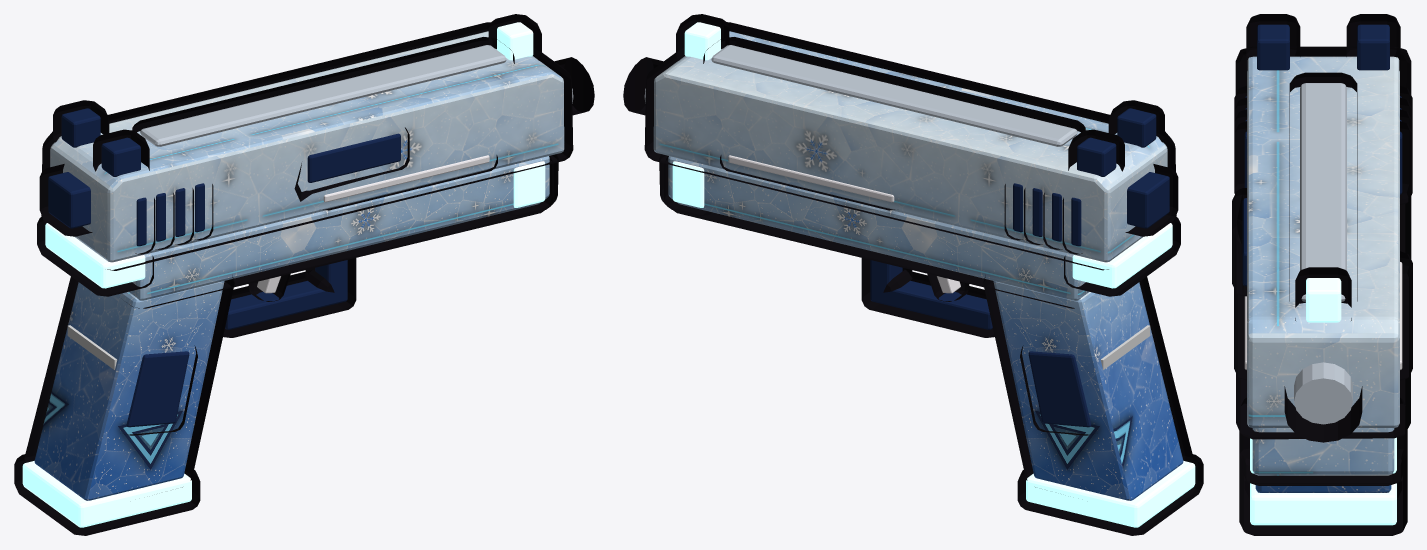
File: Deagle_Cryo.fbx
3 renders of one model, left to right at view 1: azimuth 30°, elevation 25°; view 2: azimuth 150°, elevation 25°; view 3: azimuth 270°, elevation 25°, orthographic. The views are drawn at different scales.
Visible parts, largest first — view 1: ChargingHandle_Cryo, Body_Cryo, ChargingHandle_Contour, Body_Contour, Body_BleuNuit, ChargingHandle_Argent, ChargingHandle_BleuNuit, Magazine_BleuGlace, Body_BleuGlace, Magazine_Contour, ChargingHandle_Blanc, ChargingHandle_BleuGlace; view 2: ChargingHandle_Cryo, Body_Cryo, Body_Contour, ChargingHandle_Contour, Body_BleuNuit, ChargingHandle_Argent, Magazine_BleuGlace, ChargingHandle_BleuNuit, Body_BleuGlace, Magazine_Contour, ChargingHandle_Blanc, ChargingHandle_BleuGlace; view 3: ChargingHandle_Cryo, ChargingHandle_Contour, ChargingHandle_Argent, Body_Cryo, Magazine_BleuGlace, Body_Contour, ChargingHandle_BleuNuit, Body_Argent, Magazine_Contour, ChargingHandle_BleuGlace, ChargingHandle_Blanc.
Part boxes in pixels (bbox=[...]): ChargingHandle_Cryo: bbox=[50, 31, 564, 262]; Body_Cryo: bbox=[34, 156, 549, 500]; ChargingHandle_Contour: bbox=[41, 14, 573, 270]; Body_Contour: bbox=[24, 57, 594, 487]; Body_BleuNuit: bbox=[48, 172, 347, 427]; ChargingHandle_Argent: bbox=[140, 45, 506, 146]; ChargingHandle_BleuNuit: bbox=[61, 108, 400, 246]; Magazine_BleuGlace: bbox=[22, 461, 191, 527]; Body_BleuGlace: bbox=[45, 161, 545, 288]; Magazine_Contour: bbox=[14, 454, 200, 535]; ChargingHandle_Blanc: bbox=[323, 155, 489, 202]; ChargingHandle_BleuGlace: bbox=[497, 22, 533, 60]; ChargingHandle_Cryo: bbox=[653, 31, 1167, 262]; Body_Cryo: bbox=[668, 156, 1183, 500]; Body_Contour: bbox=[623, 57, 1193, 487]; ChargingHandle_Contour: bbox=[644, 14, 1176, 270]; Body_BleuNuit: bbox=[870, 172, 1169, 427]; ChargingHandle_Argent: bbox=[711, 45, 1077, 146]; Magazine_BleuGlace: bbox=[1026, 461, 1195, 527]; ChargingHandle_BleuNuit: bbox=[1013, 108, 1156, 246]; Body_BleuGlace: bbox=[672, 161, 1172, 288]; Magazine_Contour: bbox=[1017, 454, 1203, 535]; ChargingHandle_Blanc: bbox=[728, 155, 894, 202]; ChargingHandle_BleuGlace: bbox=[684, 22, 720, 60]; ChargingHandle_Cryo: bbox=[1247, 56, 1399, 427]; ChargingHandle_Contour: bbox=[1232, 14, 1412, 439]; ChargingHandle_Argent: bbox=[1300, 83, 1346, 301]; Body_Cryo: bbox=[1252, 428, 1394, 492]; Magazine_BleuGlace: bbox=[1250, 483, 1396, 525]; Body_Contour: bbox=[1239, 386, 1407, 498]; ChargingHandle_BleuNuit: bbox=[1242, 24, 1402, 286]; Body_Argent: bbox=[1294, 362, 1352, 424]; Magazine_Contour: bbox=[1239, 471, 1407, 535]; ChargingHandle_BleuGlace: bbox=[1306, 278, 1341, 322]; ChargingHandle_Blanc: bbox=[1244, 262, 1402, 369].
Bounding box in the file's own units: 1.31 × 0.8907 × 0.3067.
Materials: 16 (3 with a texture image).
